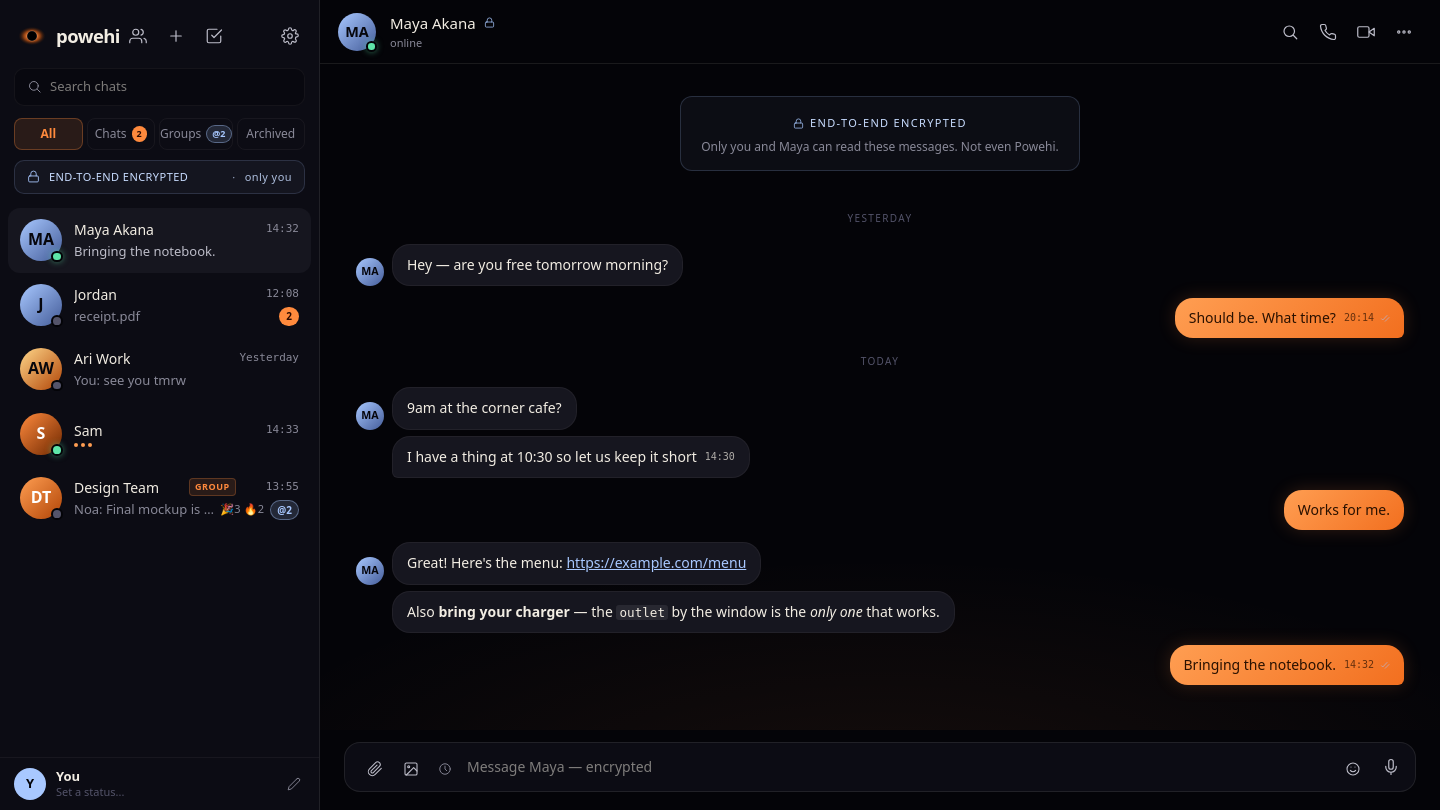
Test: ChatLayout — custom user status › saving a typed status shows it in the sidebar
Click the button with test id "user-status-edit-btn" at (294, 784), box [283,773,305,795]
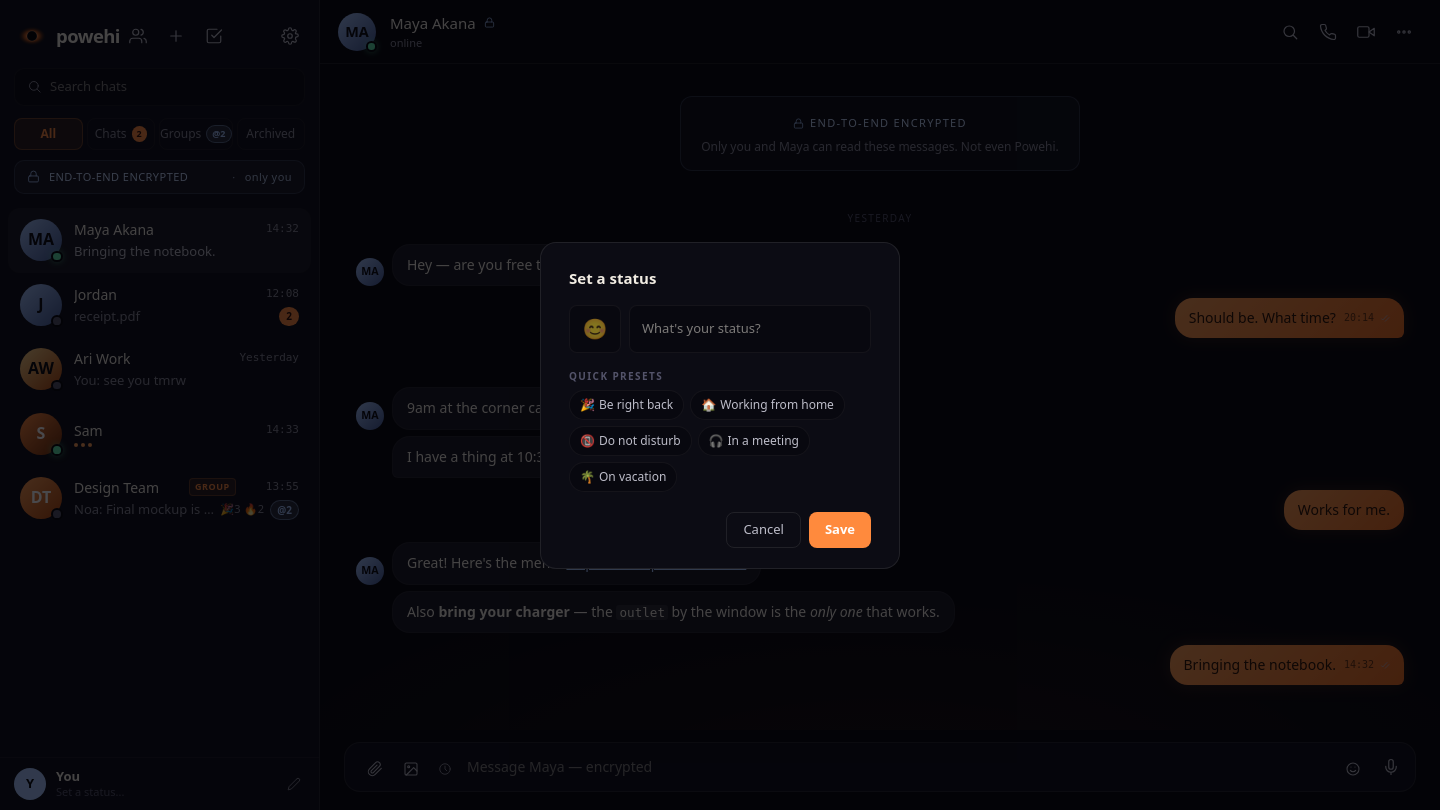
Type "🎉" into the field with test id "status-emoji-input" at (595, 329), box [569,305,621,353]
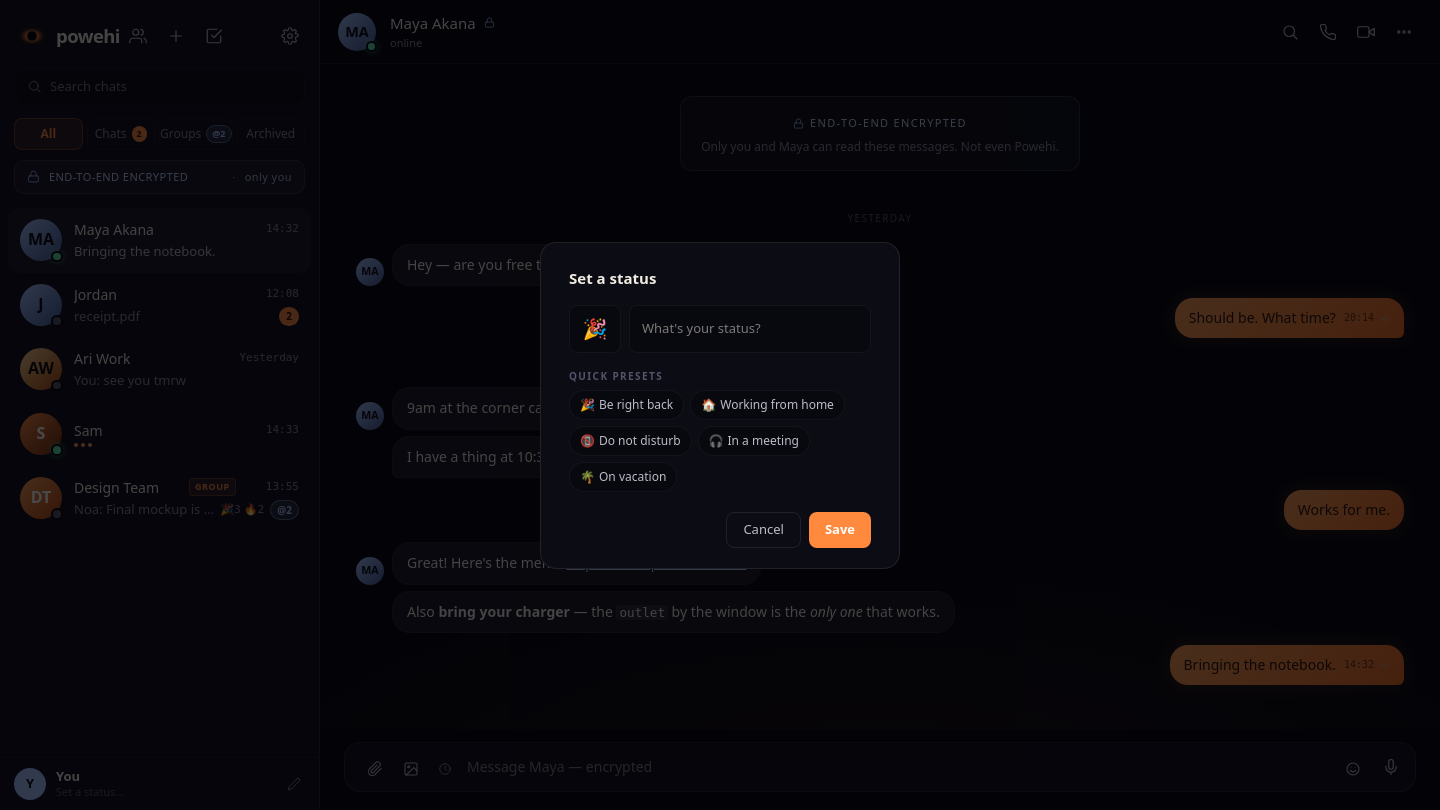
Type "Having fun" into the field with test id "status-text-input" at (750, 329), box [629,305,871,353]
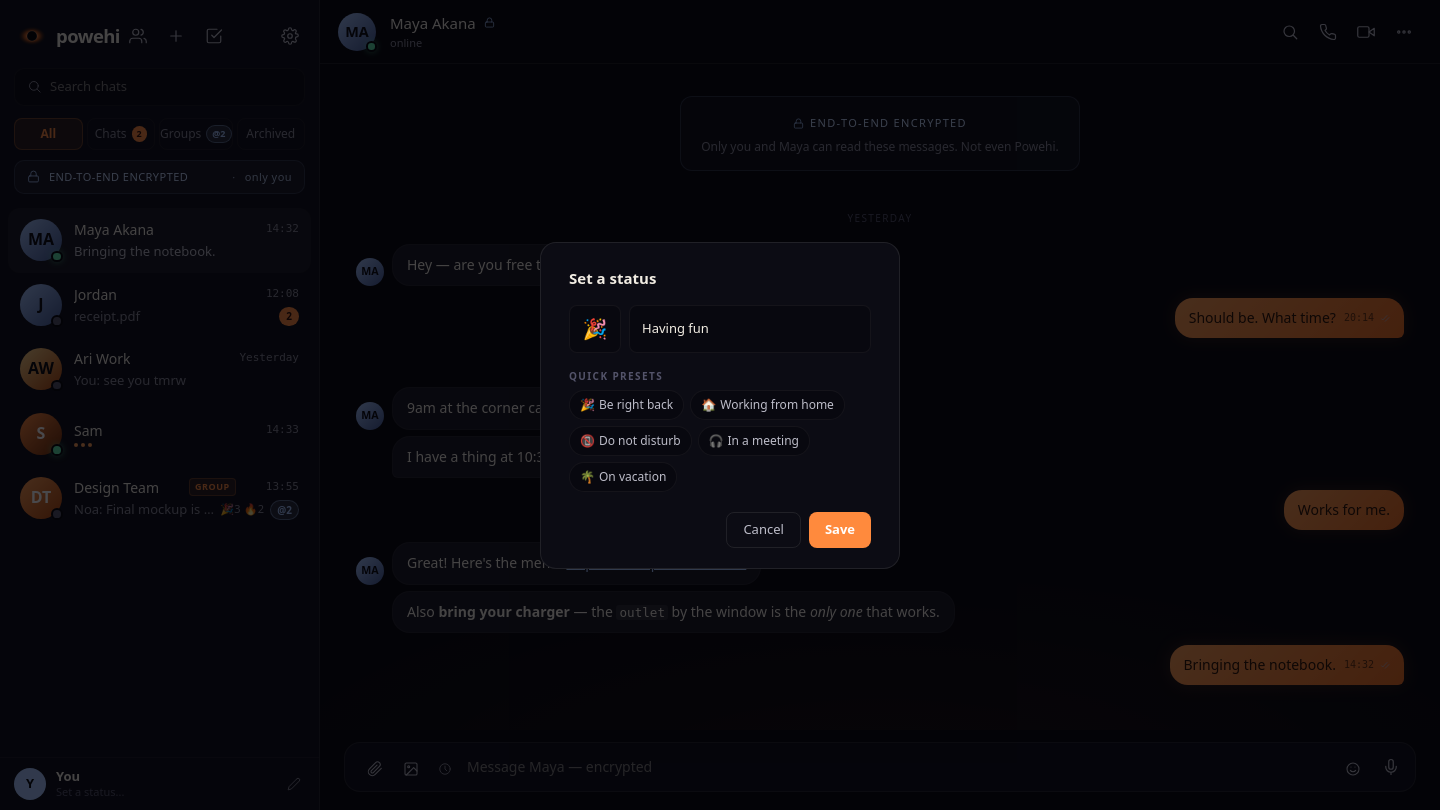
Click the button with test id "status-save-btn" at (840, 530), box [809,512,871,548]
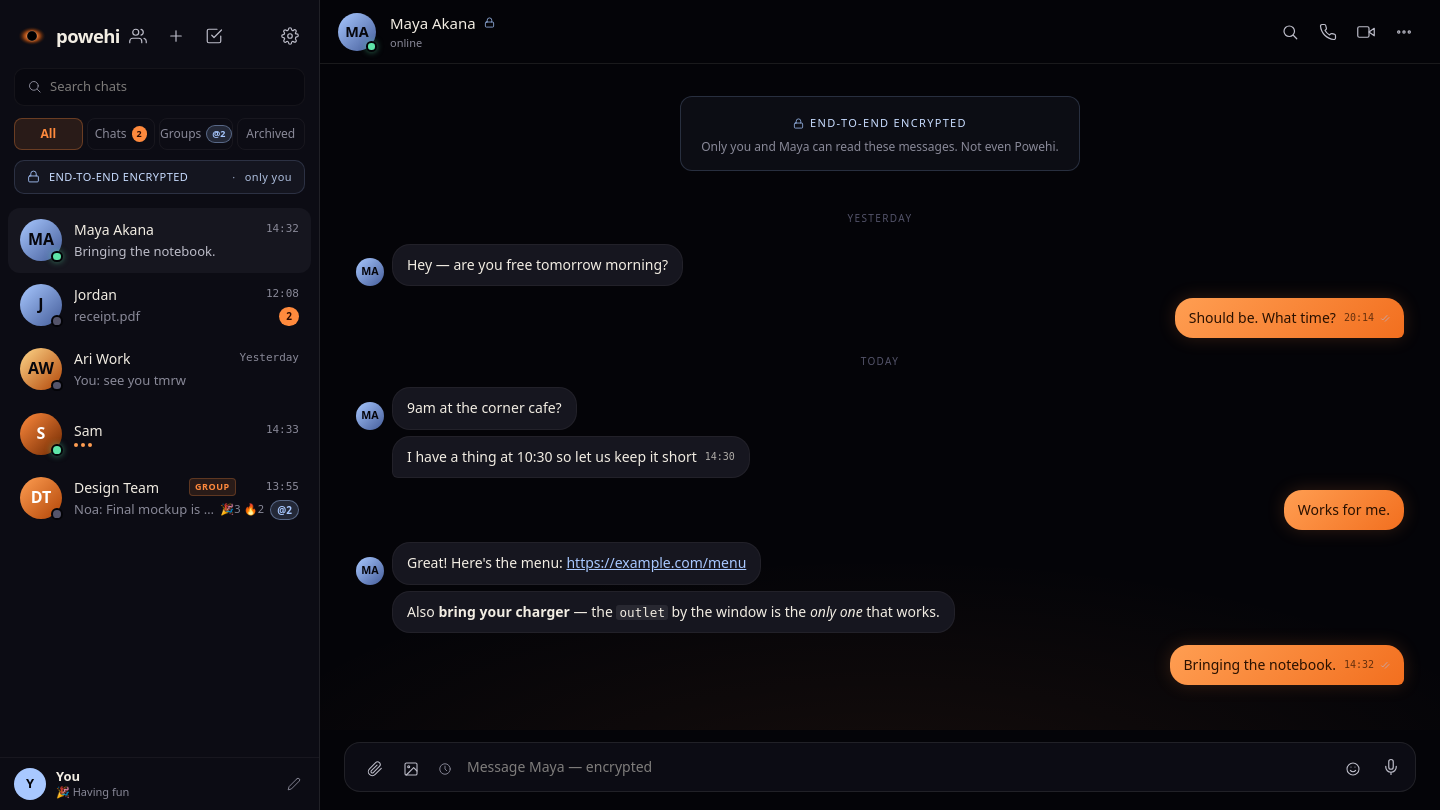
Check: the element with test id "user-status-text" shows "Having fun", box [73,784,129,799]
